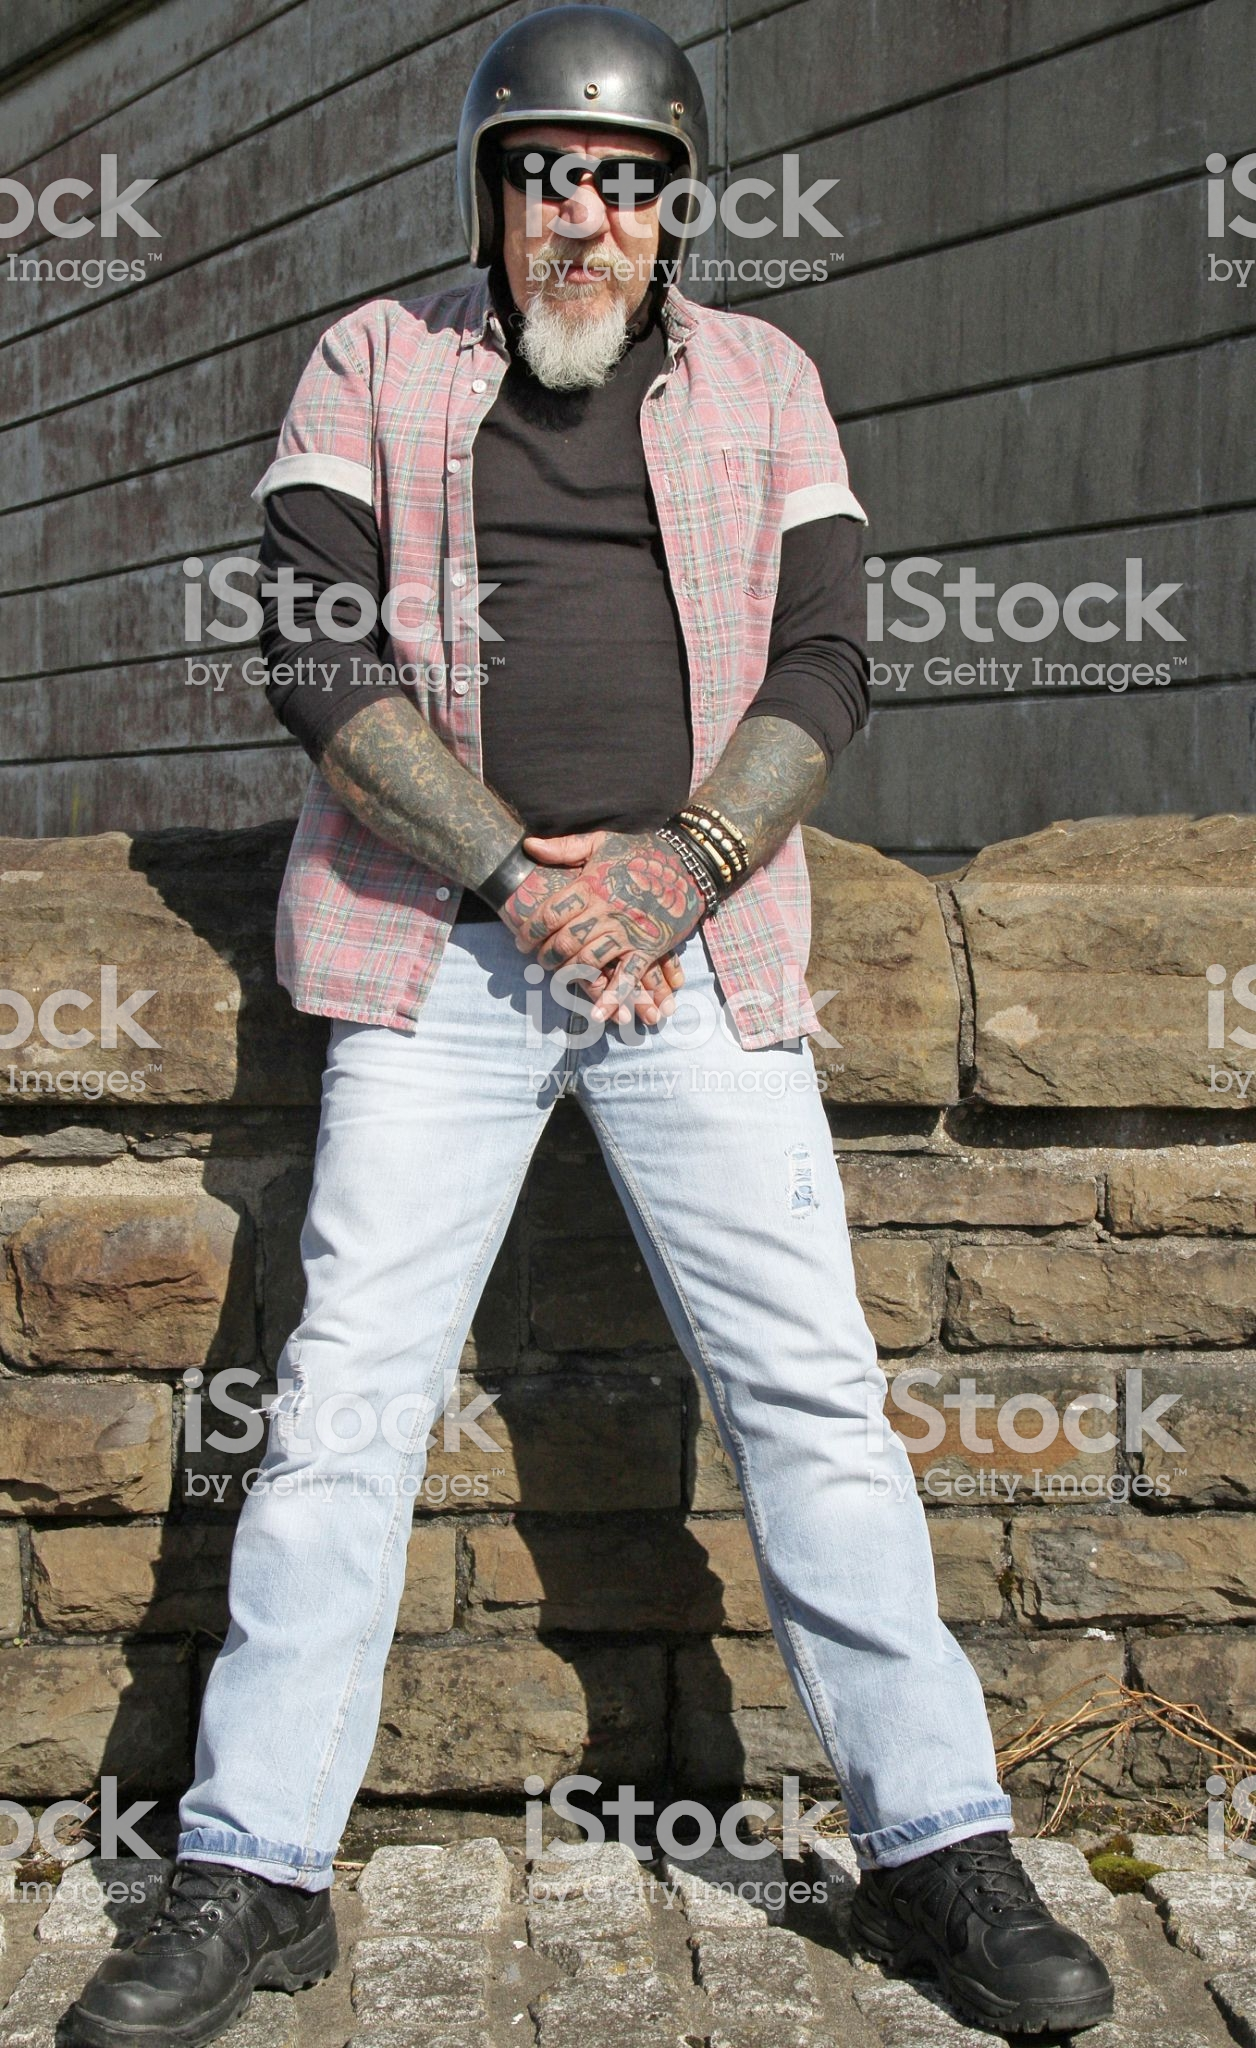helmet: (446, 16, 721, 288)
